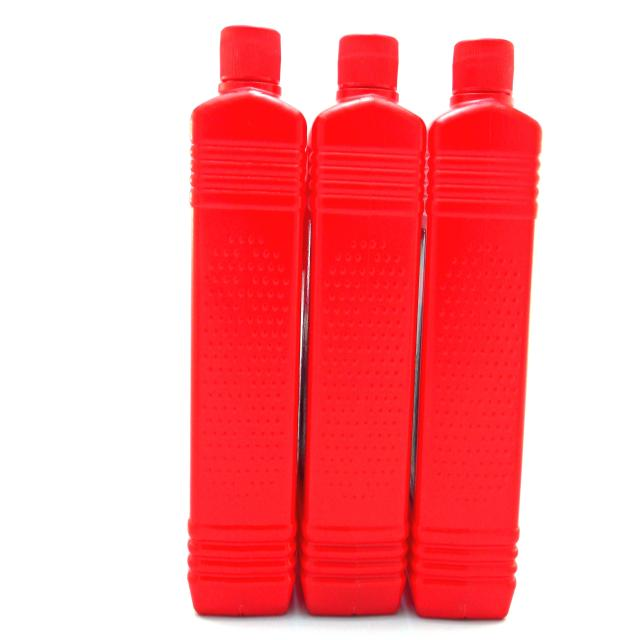plastic: (213, 20, 517, 626)
